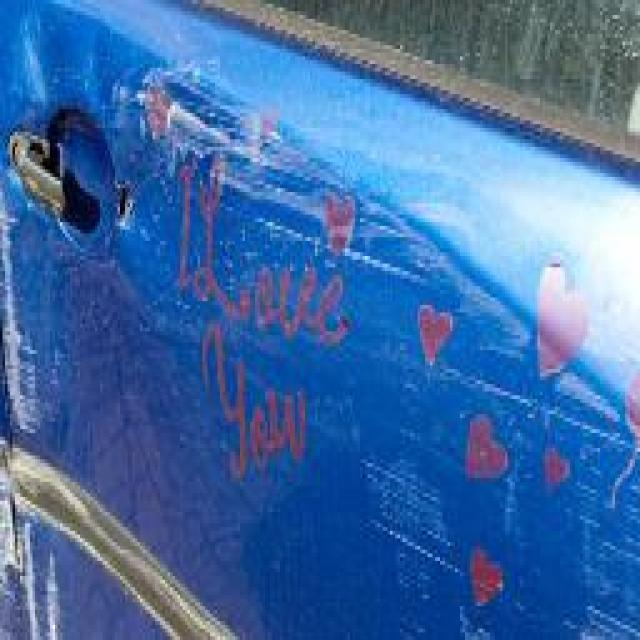Door: (10, 19, 625, 640)
